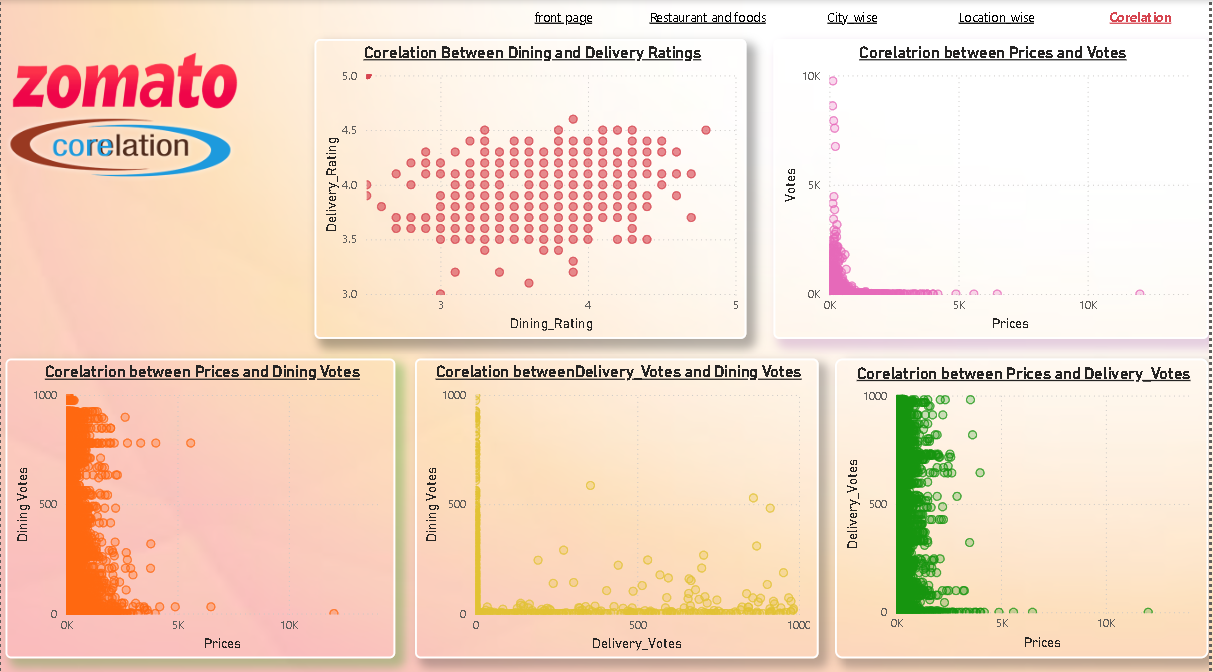

This screenshot's page, from the dashboard's own definition file:
{"tool":"powerbi","page":{"name":"Corelation","canvas":[1280,720],"ordinal":4},"visuals":[{"type":"scatterChart","title":"Corelation Between Dining and Delivery Ratings","fields":{"Y":["zomato_dataset.Delivery_Rating"],"X":["zomato_dataset.Dining_Rating"]},"box":[332.4,41.4,458.1,318.1],"z":0},{"type":"scatterChart","title":"Corelation betweenDelivery_Votes and Dining Votes","fields":{"X":["zomato_dataset.Delivery_Votes"],"Y":["zomato_dataset.Dining Votes"]},"box":[439,380.2,427.9,318.1],"z":1000},{"type":"scatterChart","title":"Corelatrion between Prices and Votes","fields":{"X":["zomato_dataset.Prices"],"Y":["zomato_dataset.Votes"]},"box":[819.2,41.4,461.3,318.1],"z":2000},{"type":"image","box":[4.8,0,252.9,170.2],"z":3000},{"type":"scatterChart","title":"Corelatrion between Prices and Dining Votes","fields":{"X":["zomato_dataset.Prices"],"Y":["zomato_dataset.Dining Votes"]},"box":[4.8,380.2,413.6,318.1],"z":4000},{"type":"scatterChart","title":"Corelatrion between Prices and Delivery_Votes","fields":{"X":["zomato_dataset.Prices"],"Y":["zomato_dataset.Delivery_Votes"]},"box":[884.4,380.2,396.1,318.1],"z":5000},{"type":"pageNavigator","box":[524.5,0,755.5,35],"z":6000},{"type":"image","box":[0,62,252.9,189.3],"z":7000}]}

Visuals, with their boxes in screenshot pixels (x1, y1, x2, y2), scaled from the page's 1280x720 canvas onto the 1213x672 screenshot:
"Corelation Between Dining and Delivery Ratings" scatterChart: {"x1": 315, "y1": 39, "x2": 749, "y2": 336}
"Corelation betweenDelivery_Votes and Dining Votes" scatterChart: {"x1": 416, "y1": 355, "x2": 822, "y2": 652}
"Corelatrion between Prices and Votes" scatterChart: {"x1": 776, "y1": 39, "x2": 1212, "y2": 336}
image: {"x1": 5, "y1": 0, "x2": 244, "y2": 159}
"Corelatrion between Prices and Dining Votes" scatterChart: {"x1": 5, "y1": 355, "x2": 396, "y2": 652}
"Corelatrion between Prices and Delivery_Votes" scatterChart: {"x1": 838, "y1": 355, "x2": 1212, "y2": 652}
pageNavigator: {"x1": 497, "y1": 0, "x2": 1212, "y2": 33}
image: {"x1": 0, "y1": 58, "x2": 240, "y2": 235}
